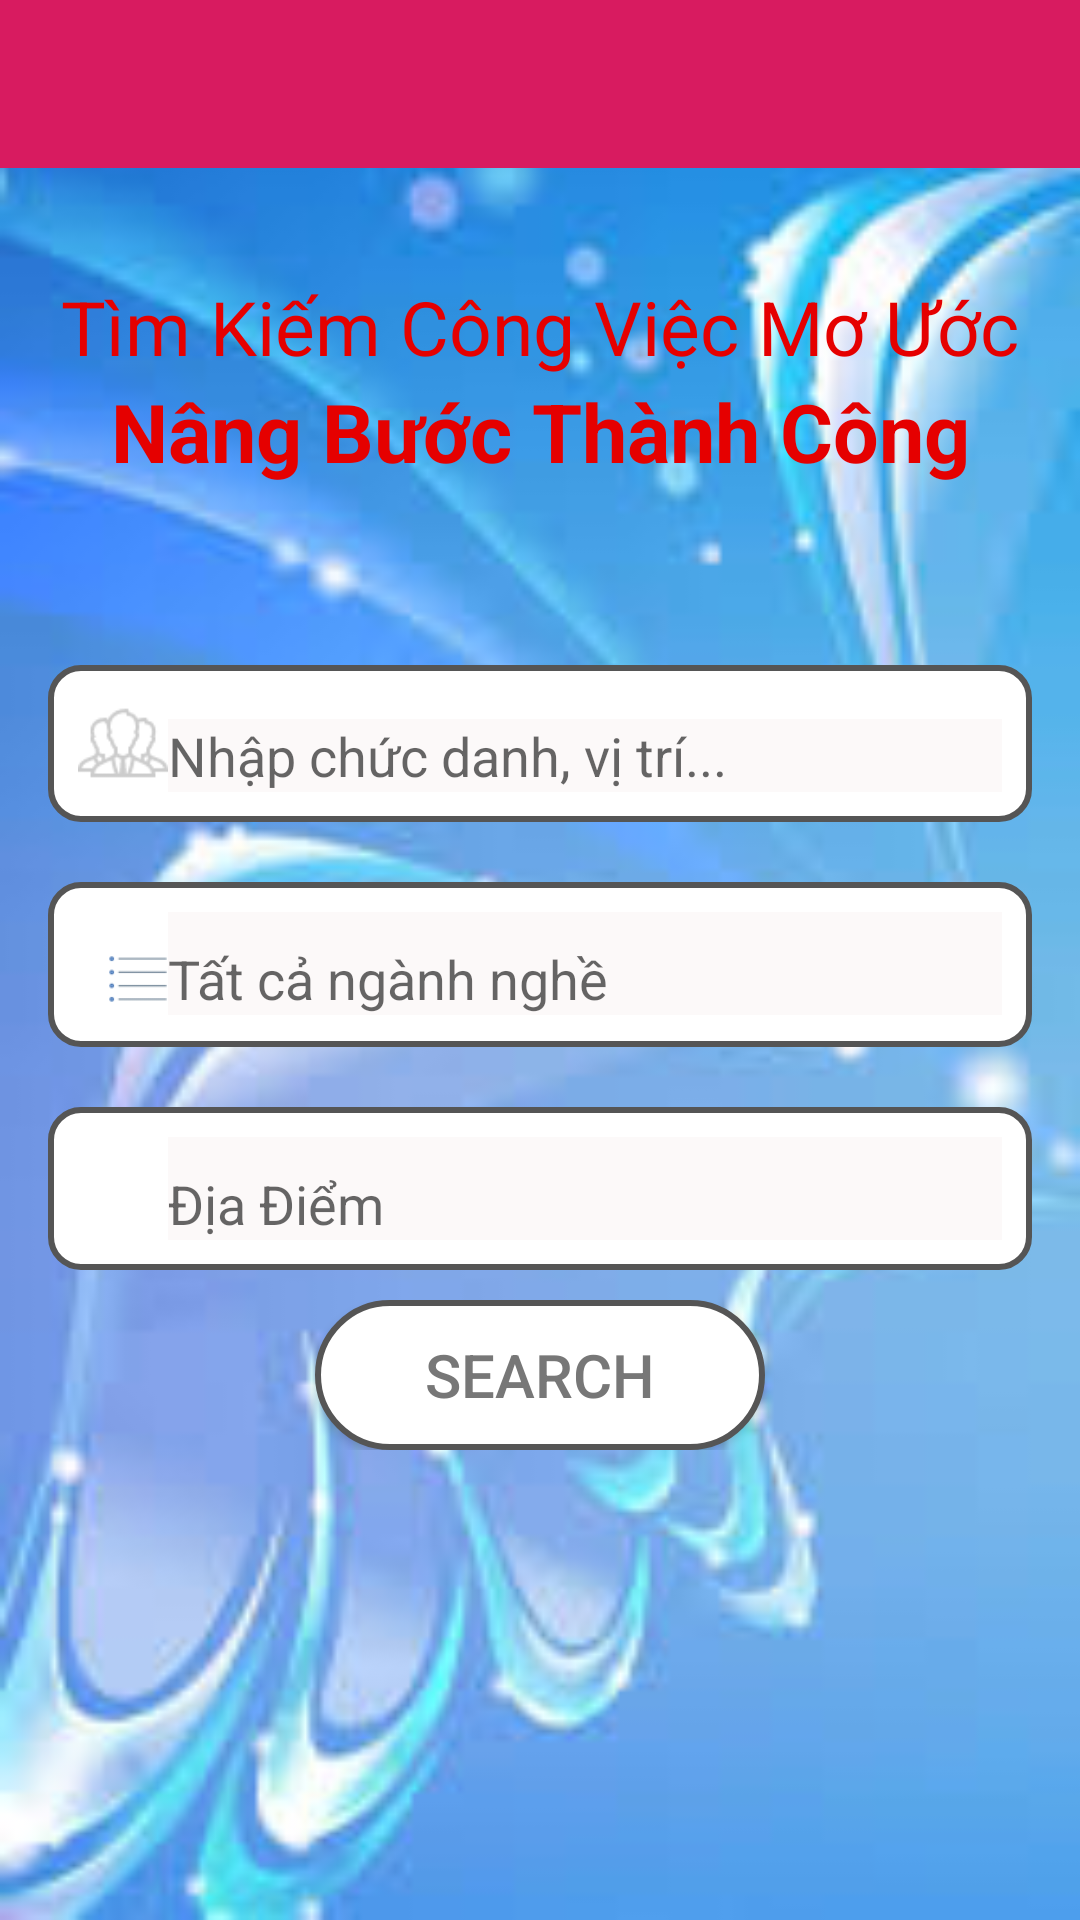

Where icons sit on this 1080x1920 app screen, as (x1, y1, x2, y2):
list: (109, 956, 167, 1002)
